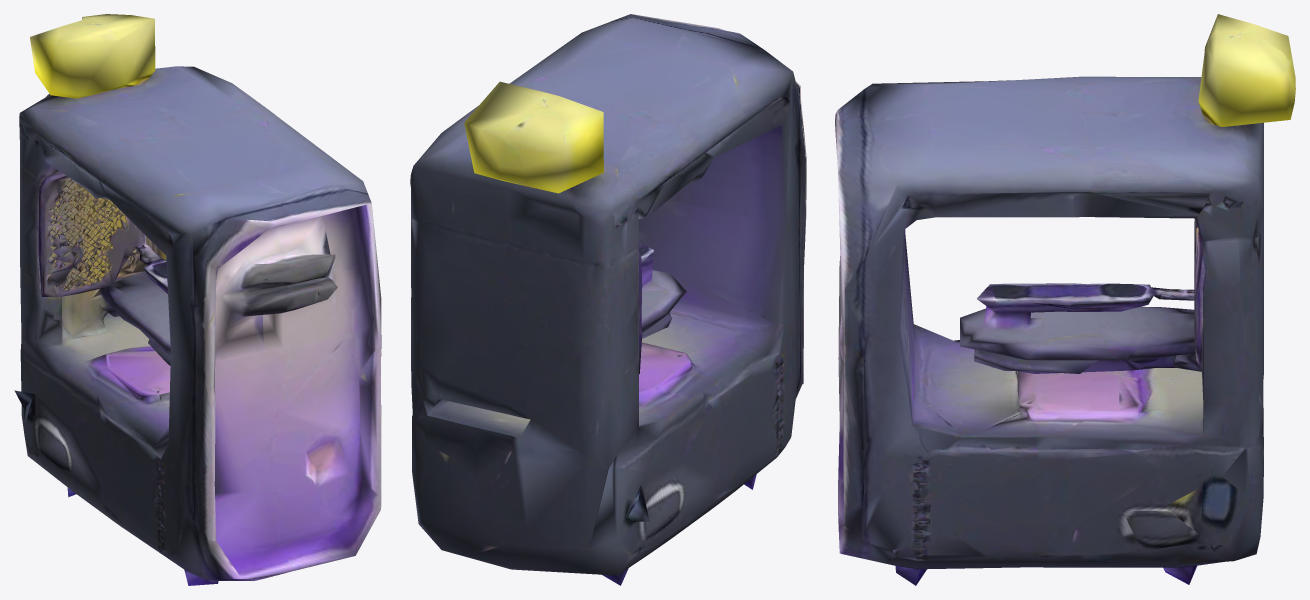
The model's file is pm_desktop_computer.glb.
The picture shows the model from 3 angles, left to right: view 1: azimuth 30°, elevation 25°; view 2: azimuth 150°, elevation 25°; view 3: azimuth 270°, elevation 25°; orthographic projection. The views are drawn at different scales.
Visible parts, largest first — view 1: tripo_node_bfde536d-2c79-4b65-8523-1734ed8d75cc; view 2: tripo_node_bfde536d-2c79-4b65-8523-1734ed8d75cc; view 3: tripo_node_bfde536d-2c79-4b65-8523-1734ed8d75cc.
Part boxes in pixels (x1,y1,x2,y2): tripo_node_bfde536d-2c79-4b65-8523-1734ed8d75cc: [14, 14, 381, 585]; tripo_node_bfde536d-2c79-4b65-8523-1734ed8d75cc: [410, 14, 806, 585]; tripo_node_bfde536d-2c79-4b65-8523-1734ed8d75cc: [835, 14, 1295, 585].
Bounding box in the file's own units: 0.4766 × 0.9782 × 0.8177.
Materials: 1 (1 with a texture image).
